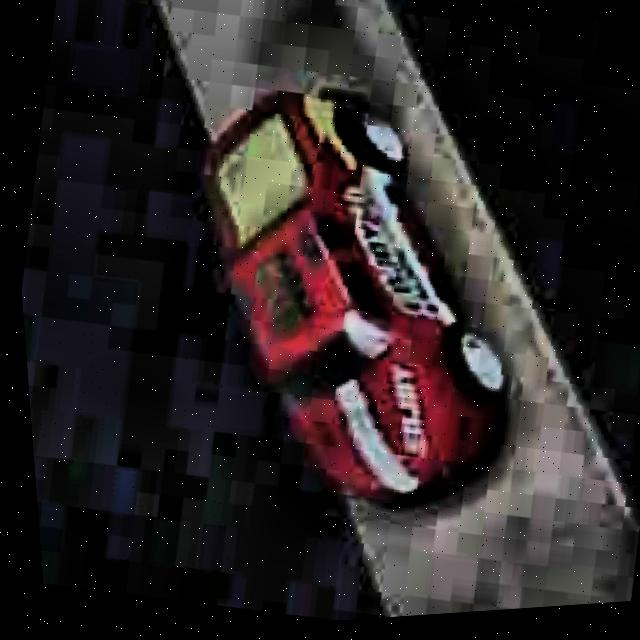car: (126, 50, 577, 552)
